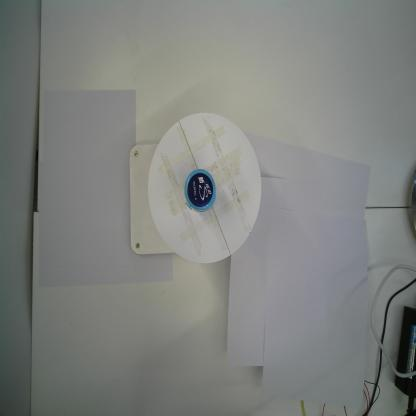Gum: (184, 168, 216, 213)
